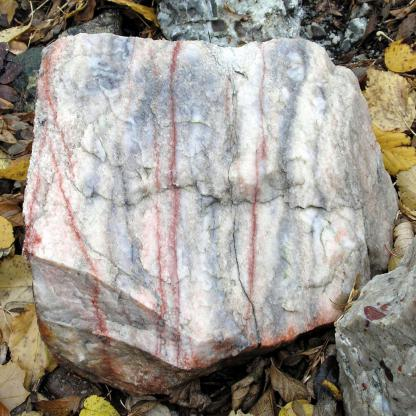Metamorphic_Marble: (22, 22, 415, 383)
